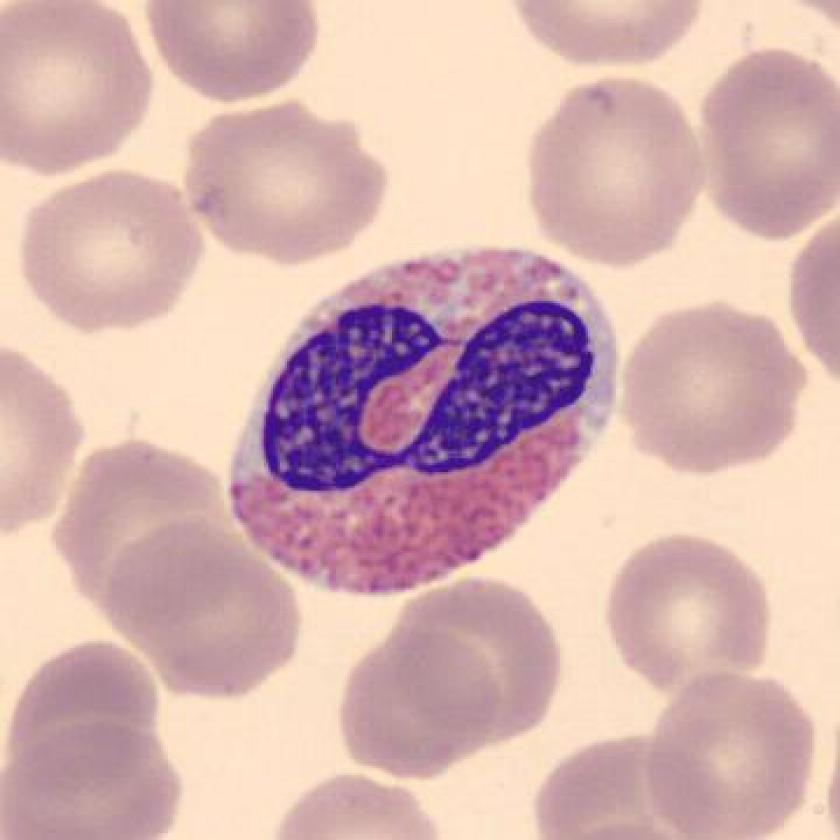eosinophil: (214, 232, 641, 605)
